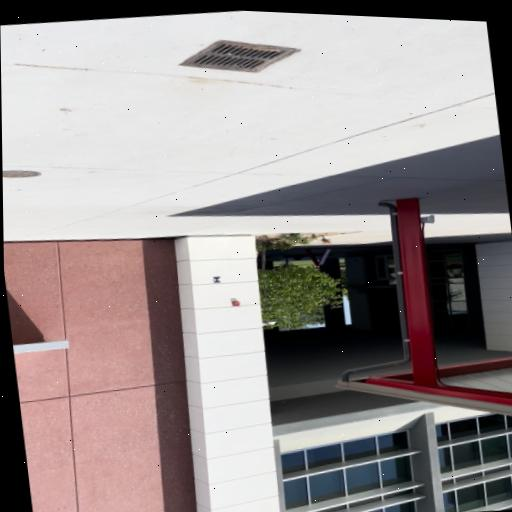target2: (212, 276, 222, 283)
